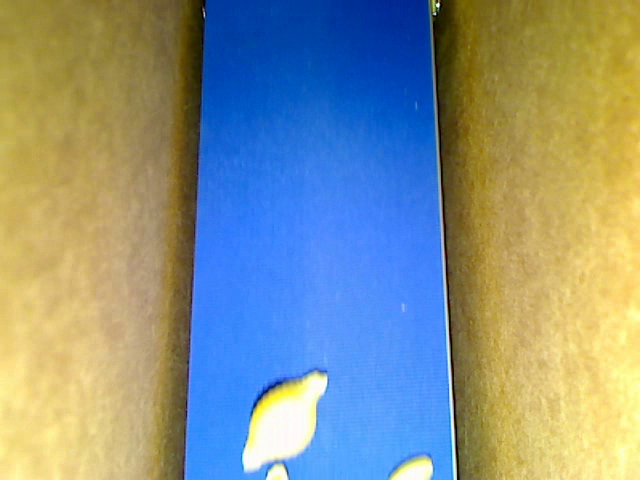elbow: (386, 453, 433, 479)
shell: (242, 369, 327, 471)
